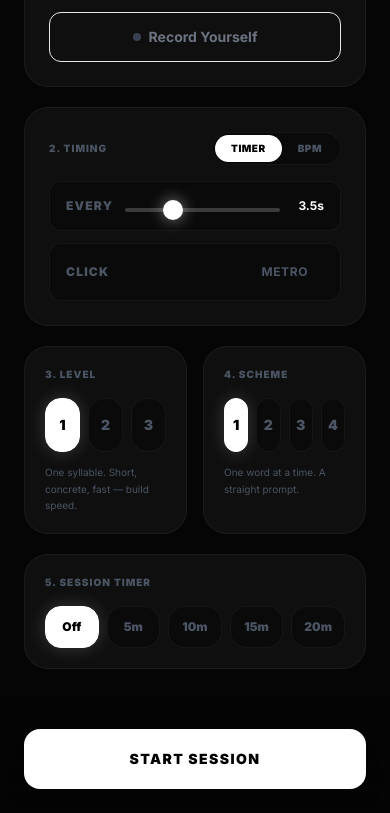
Scenario: Barsmith release flow › uses an absolute deadline and ends immediately after a background-style clock jump
(page scrolled)
Click the button named "5 minute session timer".
click(133, 627)  # box [107,606,160,648]
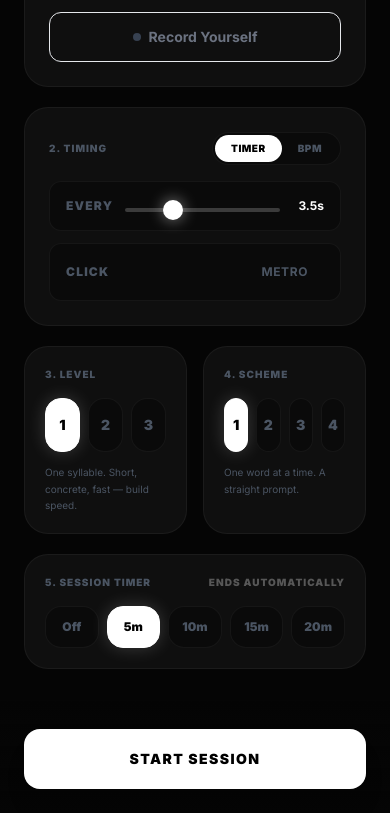
Click the button "Start Session".
click(195, 759)  # box [24,729,366,789]
Wait 300 ms
(page scrolled)
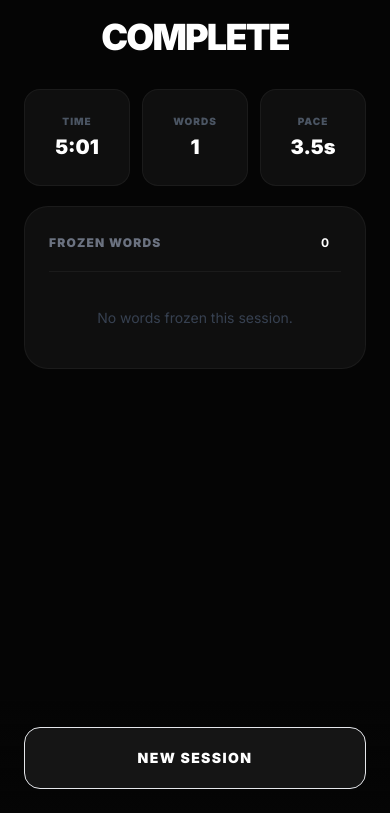
Check: the heading "Complete" is shown, box [101,15,289,59]
